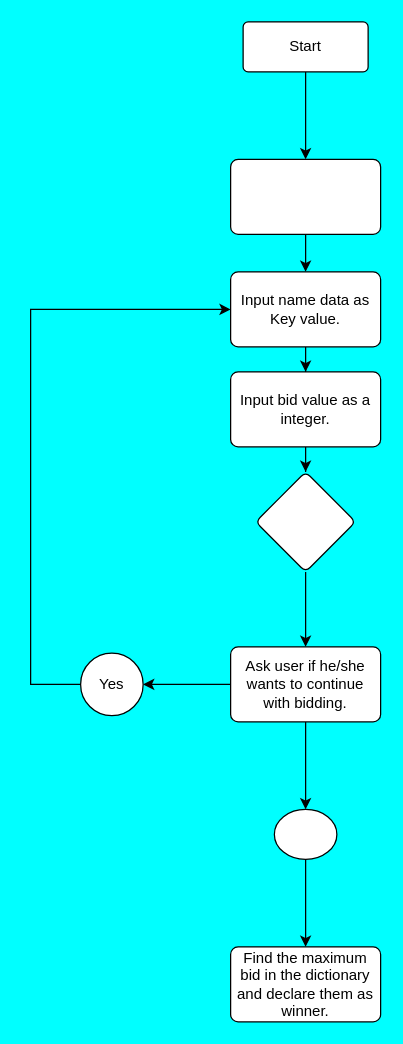
This 403x1044 diagram has some shape labels left out. Here are the shapes that lost their labels. From the top down, the centre of each, then its label:
the point at 305,196: Create a dictionary to store auction data.
the point at 305,521: Clear Screen
the point at 305,833: No
